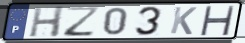0: (102, 6, 130, 36)
3: (132, 5, 165, 37)
H: (28, 5, 66, 38), (198, 5, 236, 36)
K: (169, 6, 199, 36)
Z: (63, 5, 101, 37)
